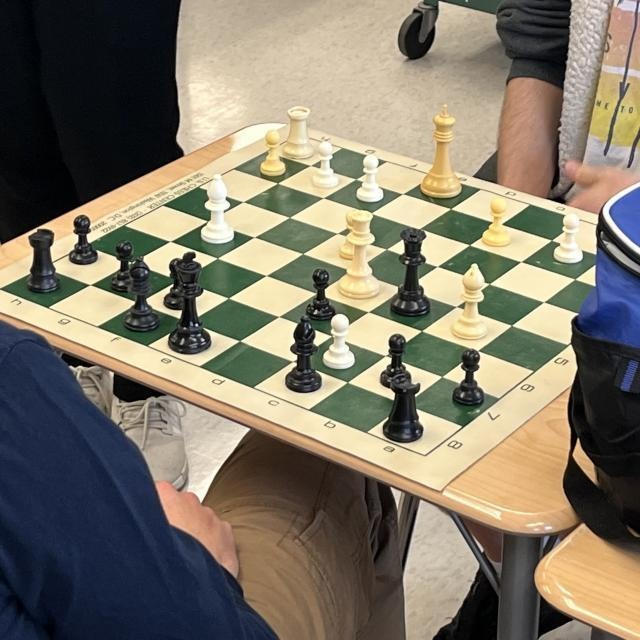black-bishop: (284, 316, 324, 391), (122, 255, 158, 333)
black-king: (166, 250, 213, 354)
black-pawn: (379, 332, 415, 387), (454, 349, 486, 407), (303, 268, 337, 322), (108, 238, 140, 295), (161, 257, 191, 311), (67, 213, 97, 266)
black-queen: (392, 227, 432, 317)
black-rook: (378, 375, 425, 445), (27, 226, 61, 295)
white-bishop: (450, 263, 489, 341), (201, 172, 233, 244)
white-king: (418, 104, 461, 198)
white-pawn: (551, 211, 584, 263), (324, 315, 354, 369), (481, 198, 512, 246), (357, 153, 383, 204), (312, 140, 339, 188), (261, 128, 286, 176), (340, 210, 360, 260)
white-queen: (339, 210, 380, 299)
white-rook: (285, 107, 314, 158)
